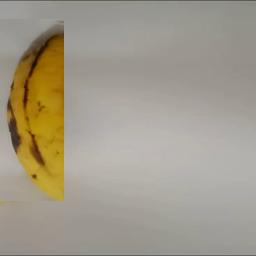Banana Semifresh: (0, 19, 64, 201)
